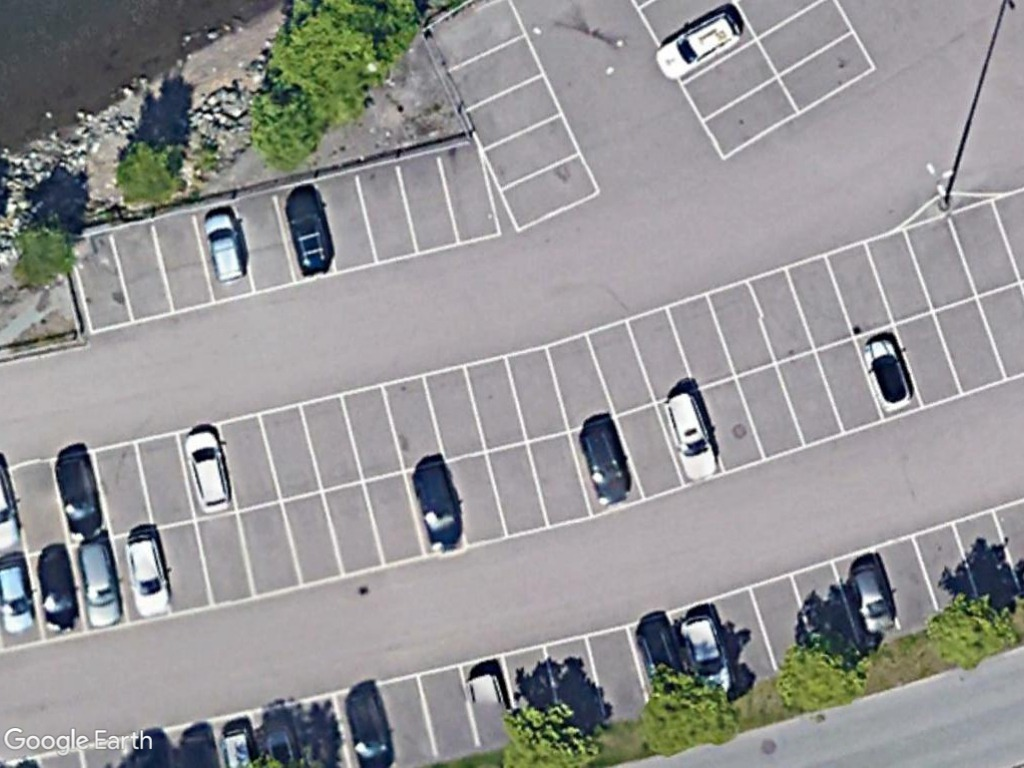car: (648, 10, 755, 85), (659, 381, 724, 487), (575, 416, 642, 515), (404, 461, 467, 561), (28, 537, 88, 634), (283, 187, 341, 285), (120, 525, 177, 621), (68, 527, 121, 630), (180, 424, 236, 518), (861, 333, 922, 418), (53, 451, 108, 544), (846, 555, 903, 640), (202, 206, 252, 295), (0, 553, 37, 636)
